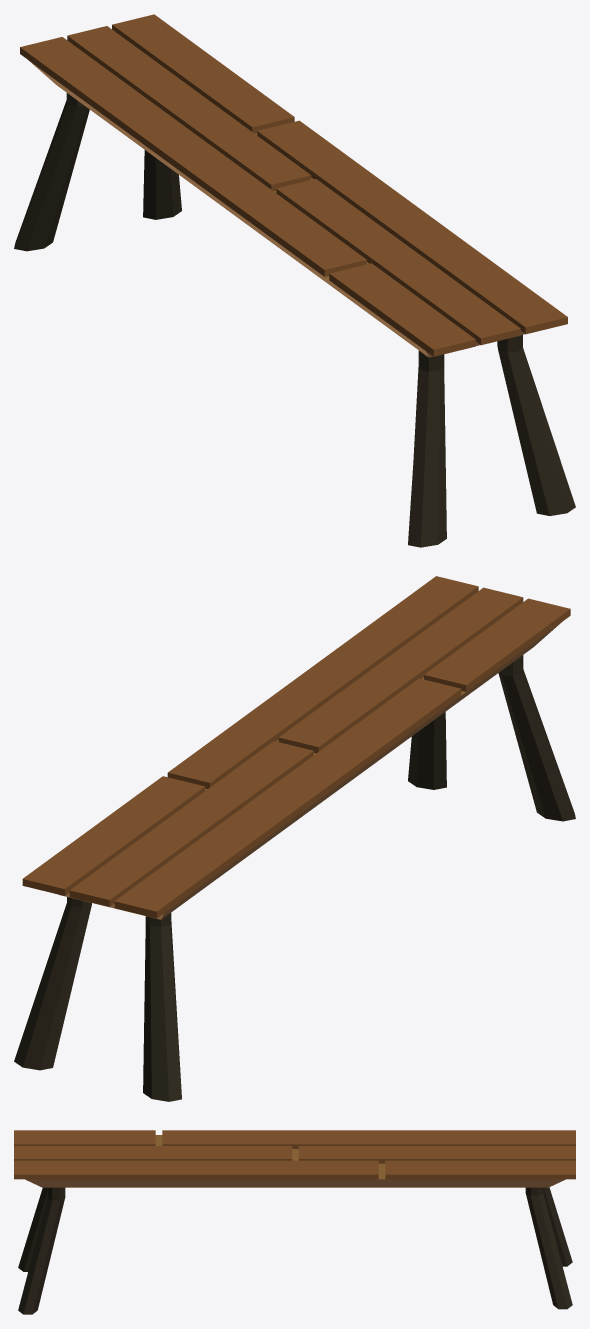
The model's file is Bench.fbx.
3 renders of one model, top to bottom at view 1: azimuth 30°, elevation 25°; view 2: azimuth 150°, elevation 25°; view 3: azimuth 270°, elevation 25°, orthographic. The views are drawn at different scales.
Visible parts, largest first — view 1: Bench; view 2: Bench; view 3: Bench.
Boxes of the visible parts, <box> form: Bench: <box>14,14,575,547</box>; Bench: <box>14,576,575,1101</box>; Bench: <box>14,1130,575,1314</box>.
Size of the model in its own units: 2.31 by 2.67 by 10.05.
